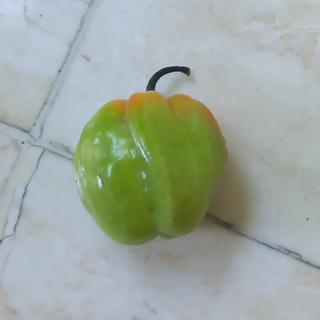Grade-B: (71, 83, 233, 249)
